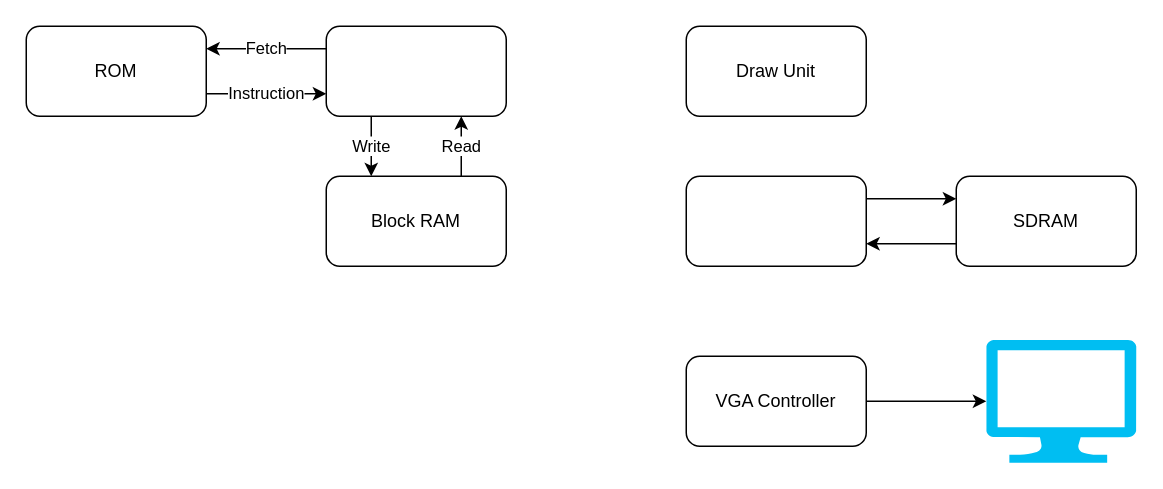
Some shapes in this 1163 by 489 pixel diagram are drawn without their labels. Here are the shapes that lost their labels. From the top down, the centre of each, then its label:
pixel 415 70: CPU
pixel 775 220: SDRAM Controller
